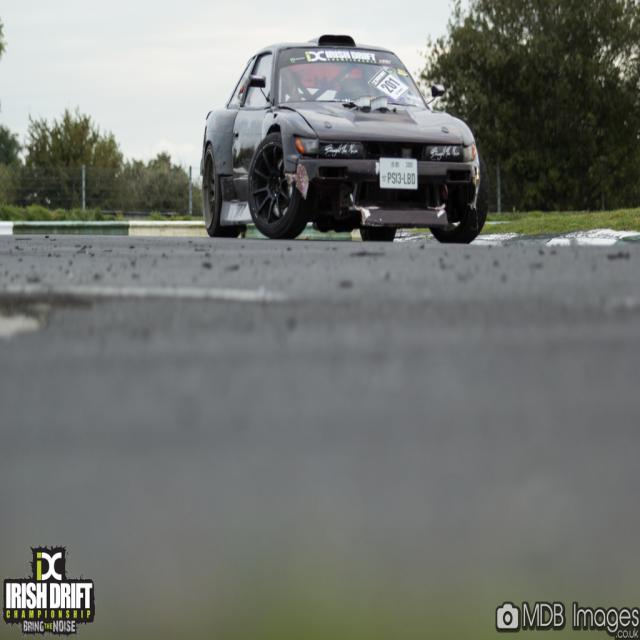car: (198, 32, 490, 244)
